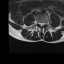CCS_stenosis: (40, 20, 42, 28)
LFS_normal: (44, 20, 46, 26)
LLS_normal: (42, 20, 44, 27)
RFS_normal: (37, 19, 39, 26)
RLS_normal: (39, 20, 41, 27)
